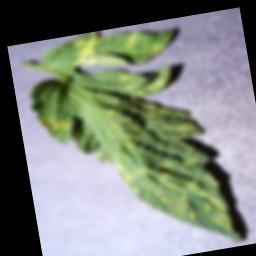Leaf_Mold: (101, 81, 235, 256), (37, 110, 71, 135), (72, 35, 99, 60)
